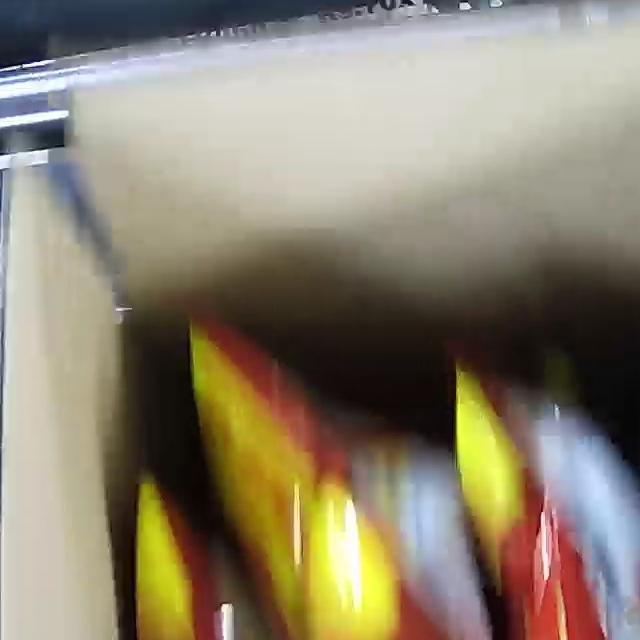masala: (125, 243, 640, 640)
